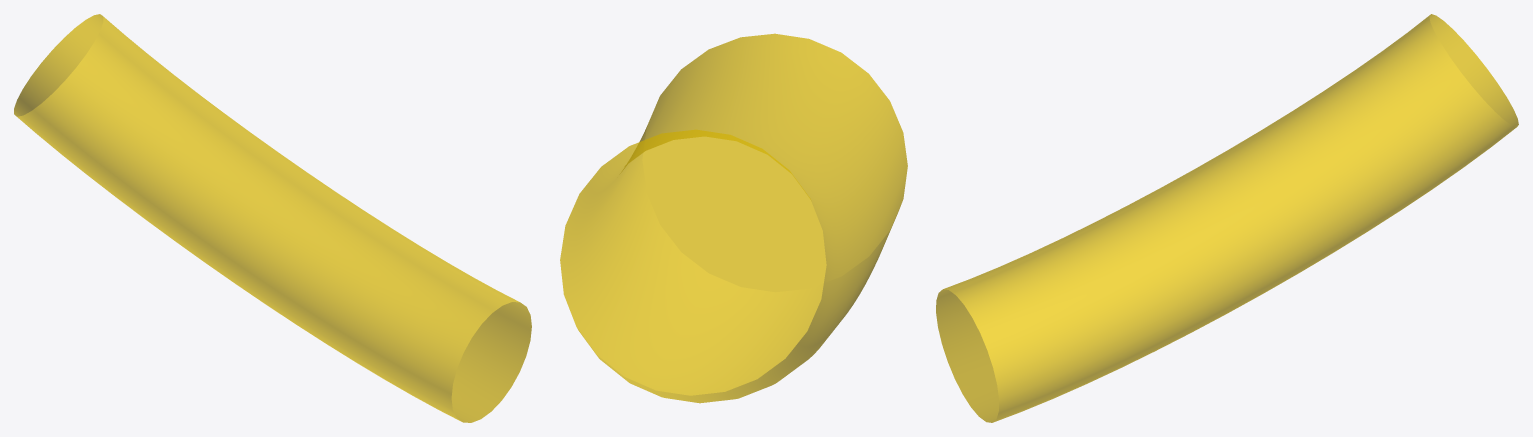
File: Event_15818458_track_48.fbx
3 views of the same model, side by side, from view 1: azimuth 30°, elevation 25°; view 2: azimuth 150°, elevation 25°; view 3: azimuth 270°, elevation 25° (orthographic). The views are drawn at different scales.
Parts seen in each view (by area): view 1: Model; view 2: Model; view 3: Model.
Boxes of the visible parts, x1=… form: Model: x1=14, y1=14, x2=531, y2=422; Model: x1=560, y1=33, x2=907, y2=403; Model: x1=936, y1=14, x2=1518, y2=422.
Size of the model in its own units: 0.1044 by 0.0939 by 0.1635.
